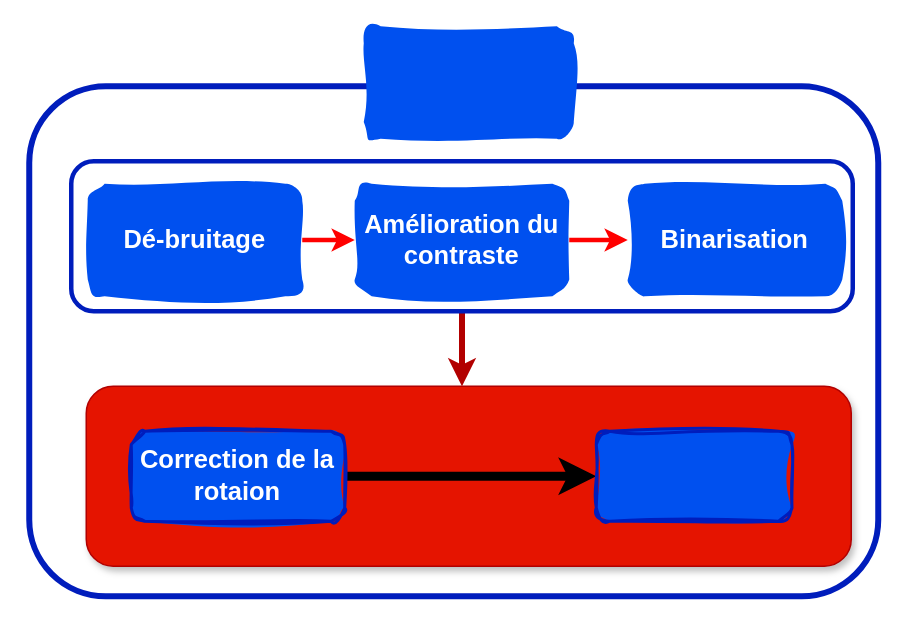
Image size: 906x624. Some labels were removed from this diagram. Each missing label, with the centre of its shape:
Prétaitement de l'image: (468,82)
Segmenation des zones de code-barres: (693,475)
